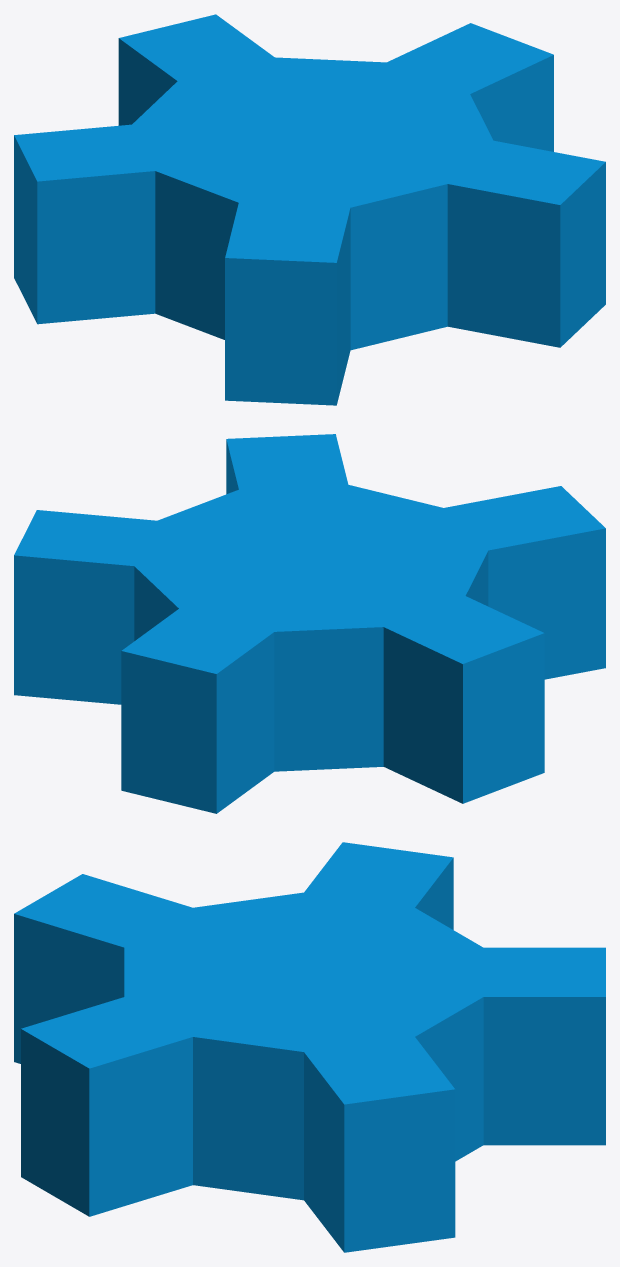
File: gear pushable colission.fbx
The picture shows the model from 3 angles, top to bottom: view 1: azimuth 30°, elevation 25°; view 2: azimuth 150°, elevation 25°; view 3: azimuth 270°, elevation 25°; orthographic projection. The views are drawn at different scales.
Visible parts, largest first — view 1: Cylinder_1_; view 2: Cylinder_1_; view 3: Cylinder_1_.
Boxes of the visible parts, x1,y1,x2,y2 form: Cylinder_1_: [14, 14, 605, 405]; Cylinder_1_: [14, 434, 605, 813]; Cylinder_1_: [14, 842, 605, 1252].
Bounding box in the file's own units: 0.0912 × 0.024 × 0.087.
